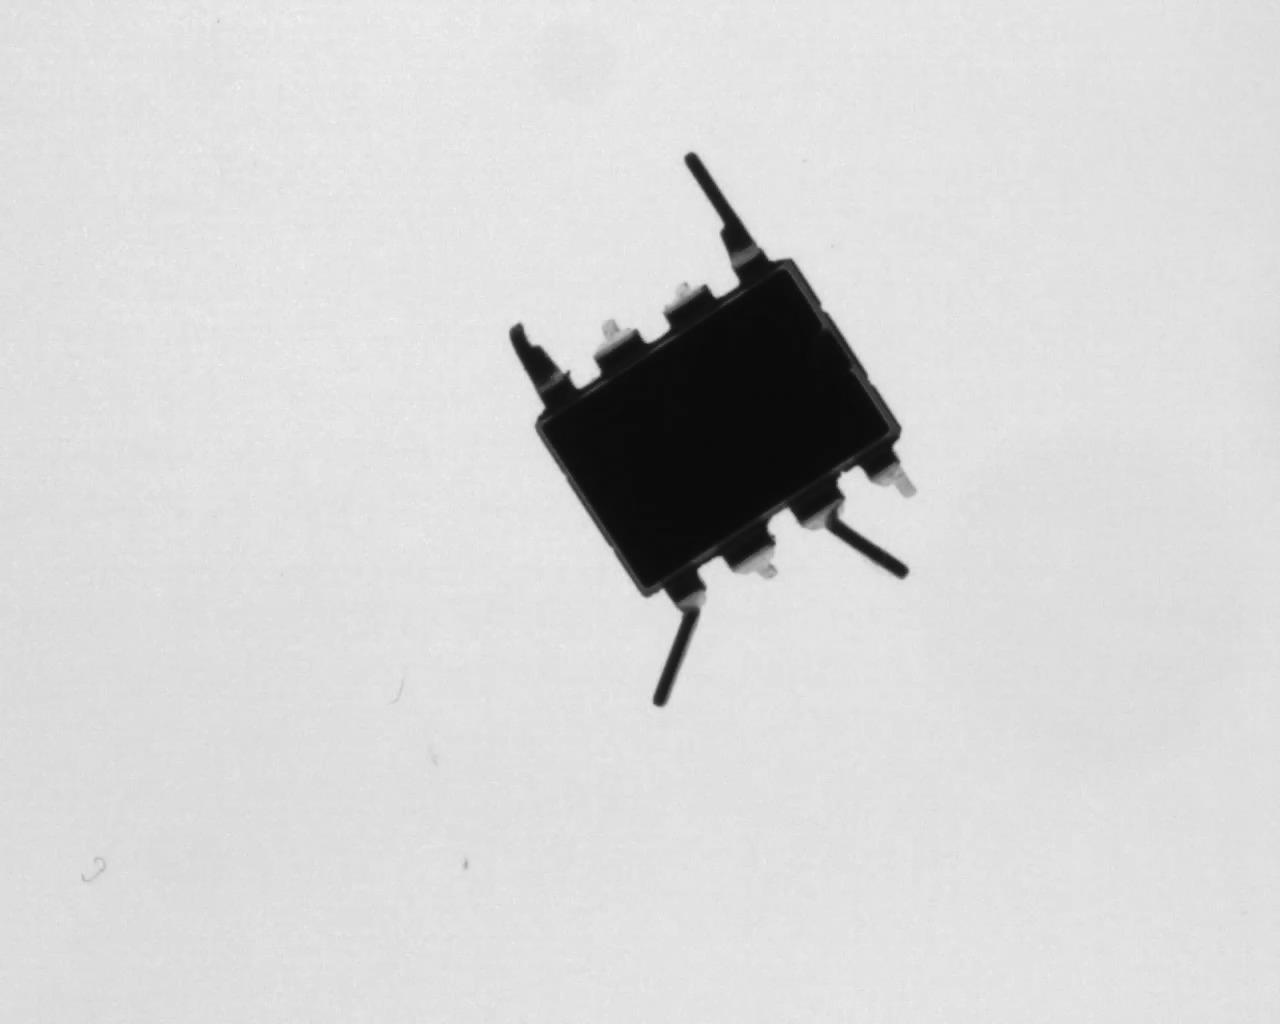Leg: (684, 150, 772, 286), (791, 479, 909, 579), (652, 564, 708, 707), (509, 321, 579, 403), (858, 442, 920, 498), (721, 521, 781, 579), (591, 316, 646, 377), (661, 281, 720, 330)
